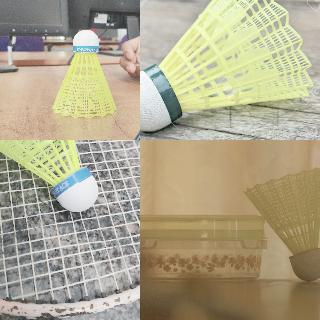shuttlecock: (140, 0, 313, 131), (244, 167, 319, 282), (0, 140, 98, 212), (52, 30, 116, 119)
